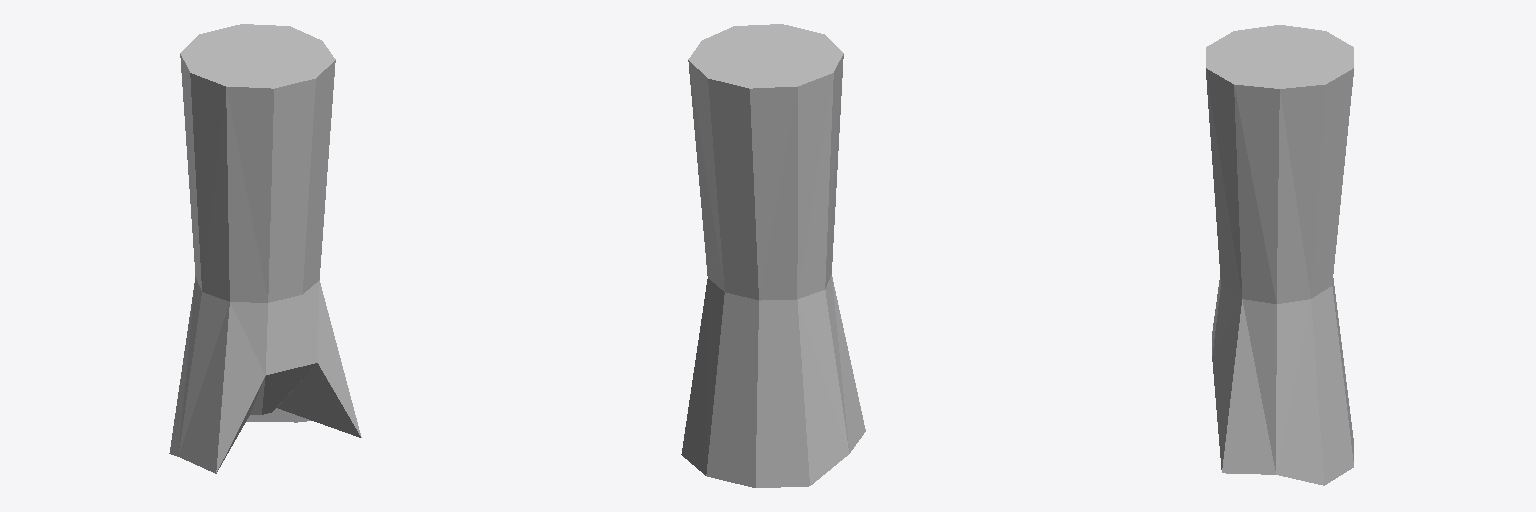
File: robot_arm.obj
3 views of the same model, side by side, from view 1: azimuth 30°, elevation 25°; view 2: azimuth 150°, elevation 25°; view 3: azimuth 270°, elevation 25° (orthographic).
Size of the model in its own units: 0.4548 by 1.09 by 0.3682.